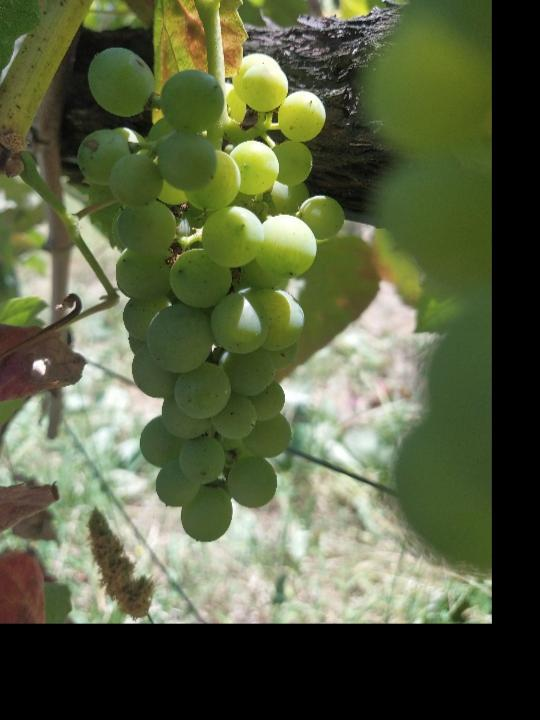grape: (74, 43, 347, 545)
